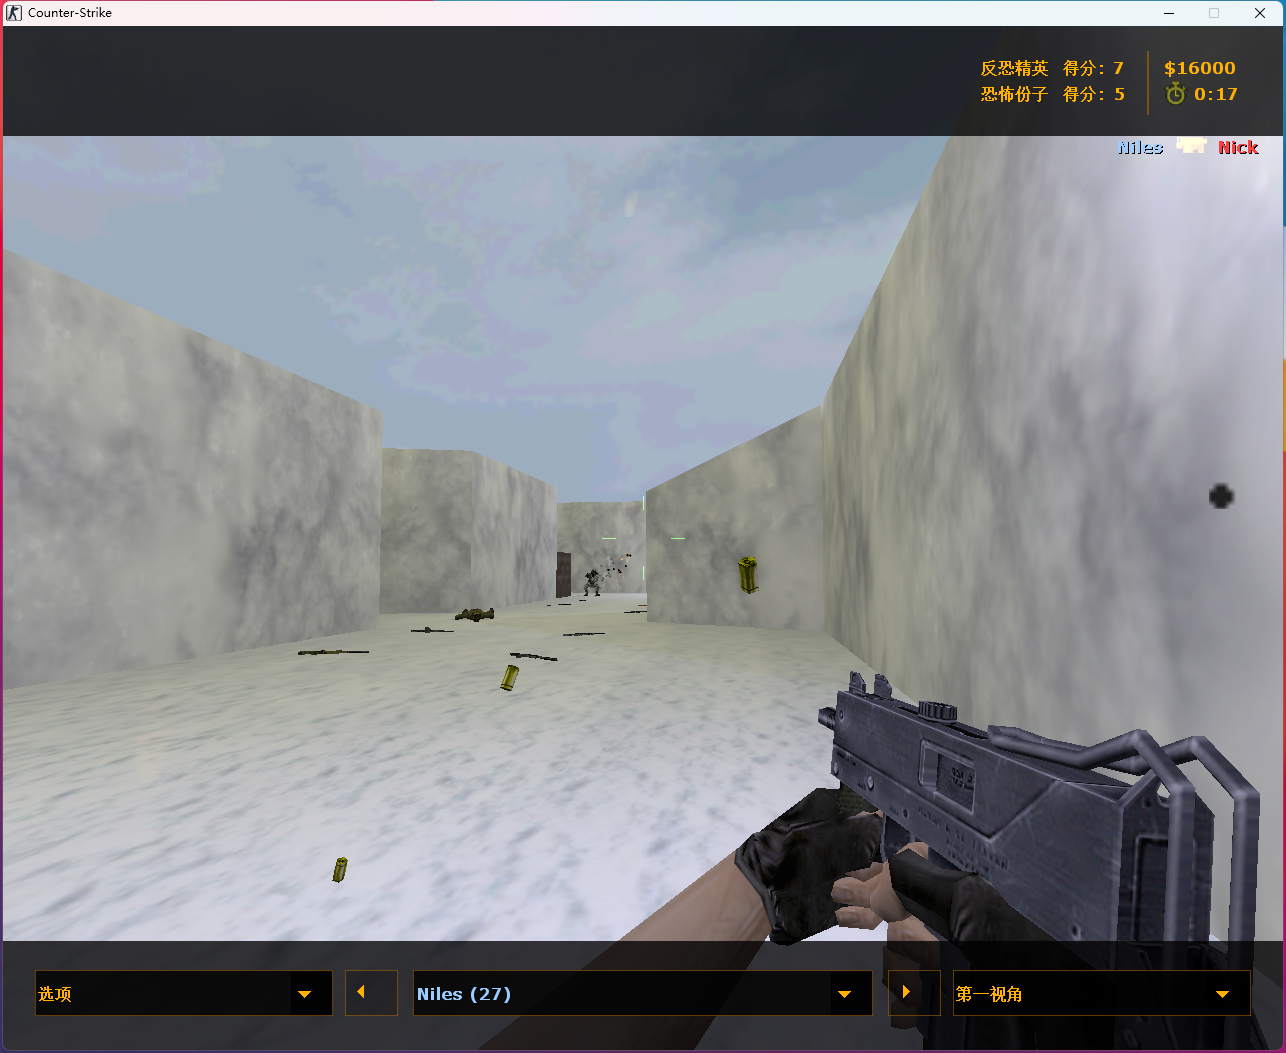T: (579, 570, 600, 597)
dead: (453, 606, 498, 623)
weapon: (295, 646, 368, 658), (511, 650, 558, 662), (409, 627, 453, 634), (564, 630, 608, 635)
